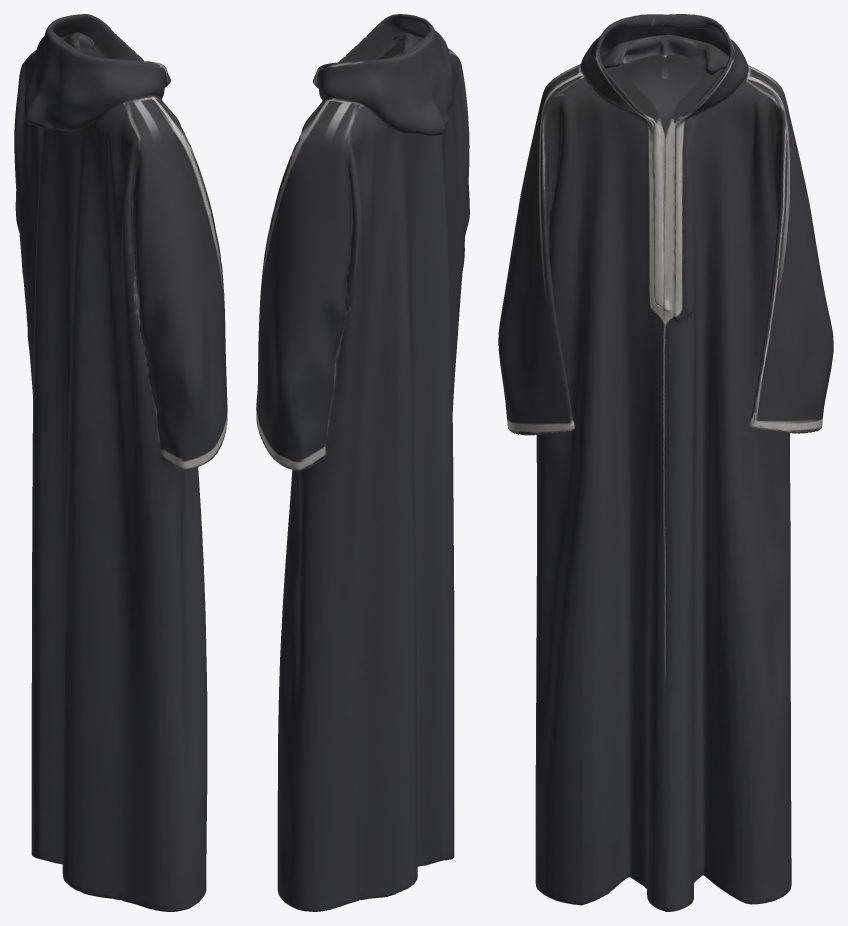
The model's file is thobDress.glb.
The picture shows the model from 3 angles, left to right: view 1: azimuth 30°, elevation 25°; view 2: azimuth 150°, elevation 25°; view 3: azimuth 270°, elevation 25°; orthographic projection.
Visible parts, largest first — view 1: tripo_node_3b2b8493-b181-4fea-8379-287ec9b95101; view 2: tripo_node_3b2b8493-b181-4fea-8379-287ec9b95101; view 3: tripo_node_3b2b8493-b181-4fea-8379-287ec9b95101.
Boxes of the visible parts, x1,y1,x2,y2 form: tripo_node_3b2b8493-b181-4fea-8379-287ec9b95101: (14, 14, 227, 911); tripo_node_3b2b8493-b181-4fea-8379-287ec9b95101: (256, 14, 469, 911); tripo_node_3b2b8493-b181-4fea-8379-287ec9b95101: (498, 14, 833, 911).
Bounding box in the file's own units: 0.2052 × 0.9998 × 0.3593.
Materials: 1 (1 with a texture image).
